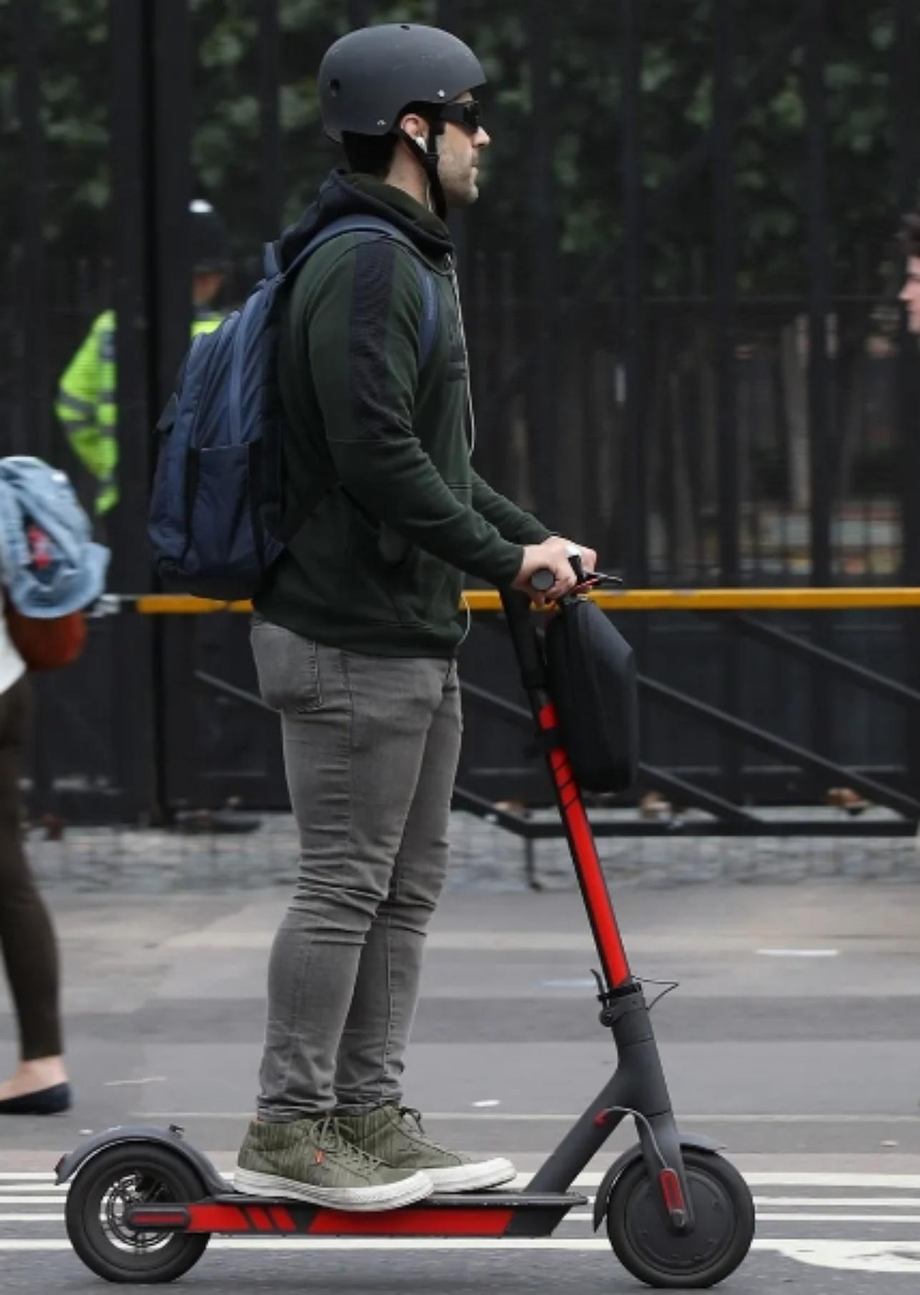helmet: (274, 20, 502, 235)
human: (238, 21, 609, 1185)
kickboard: (33, 1138, 752, 1295)
